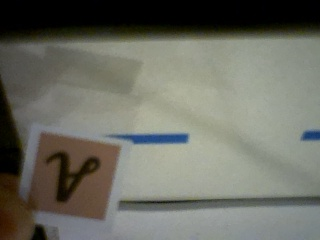A: (27, 128, 121, 223)
